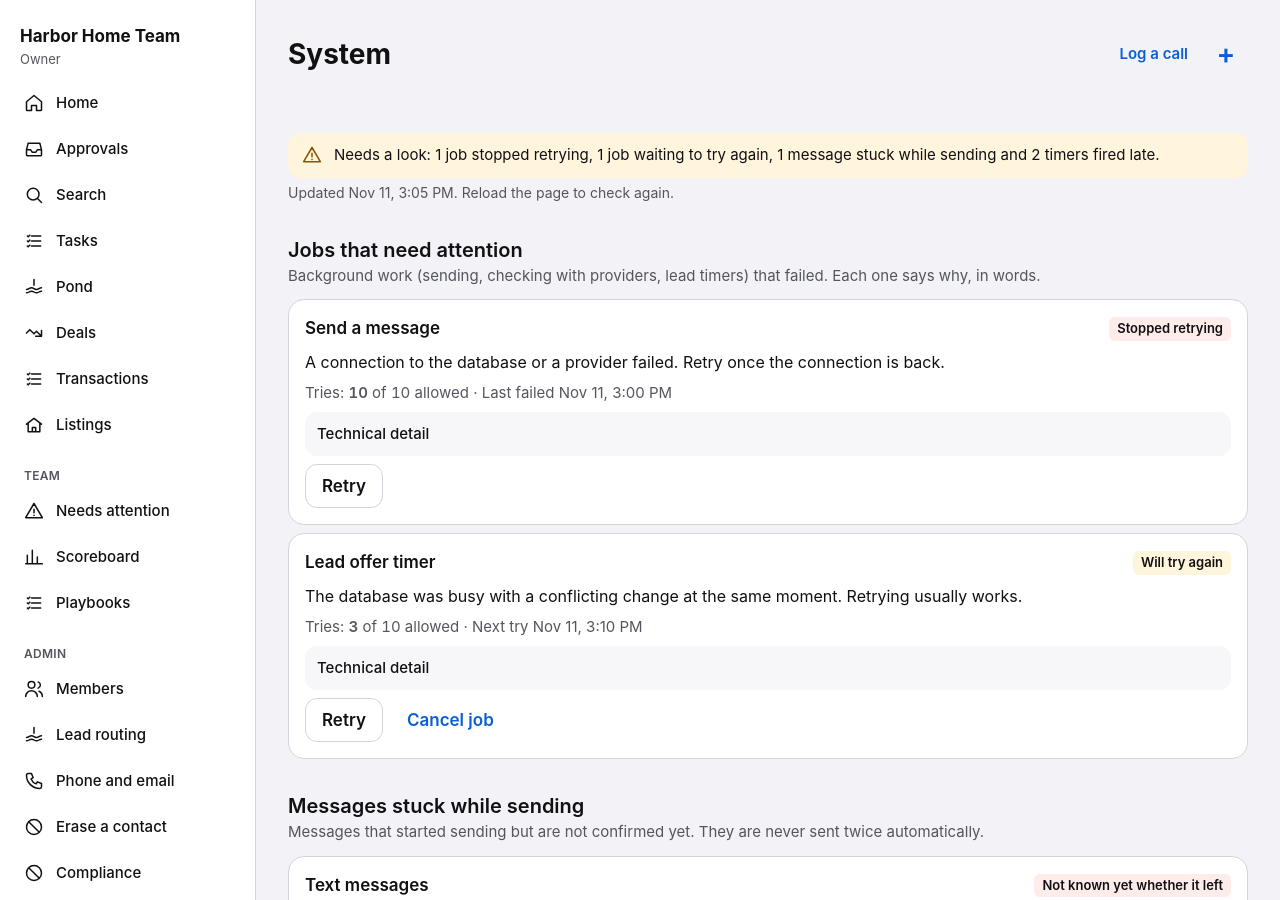
Test: System page › going back from the confirmation sends nothing
Click the button named "Retry: Send a message". click: (344, 486)
box: [305,464,383,508]
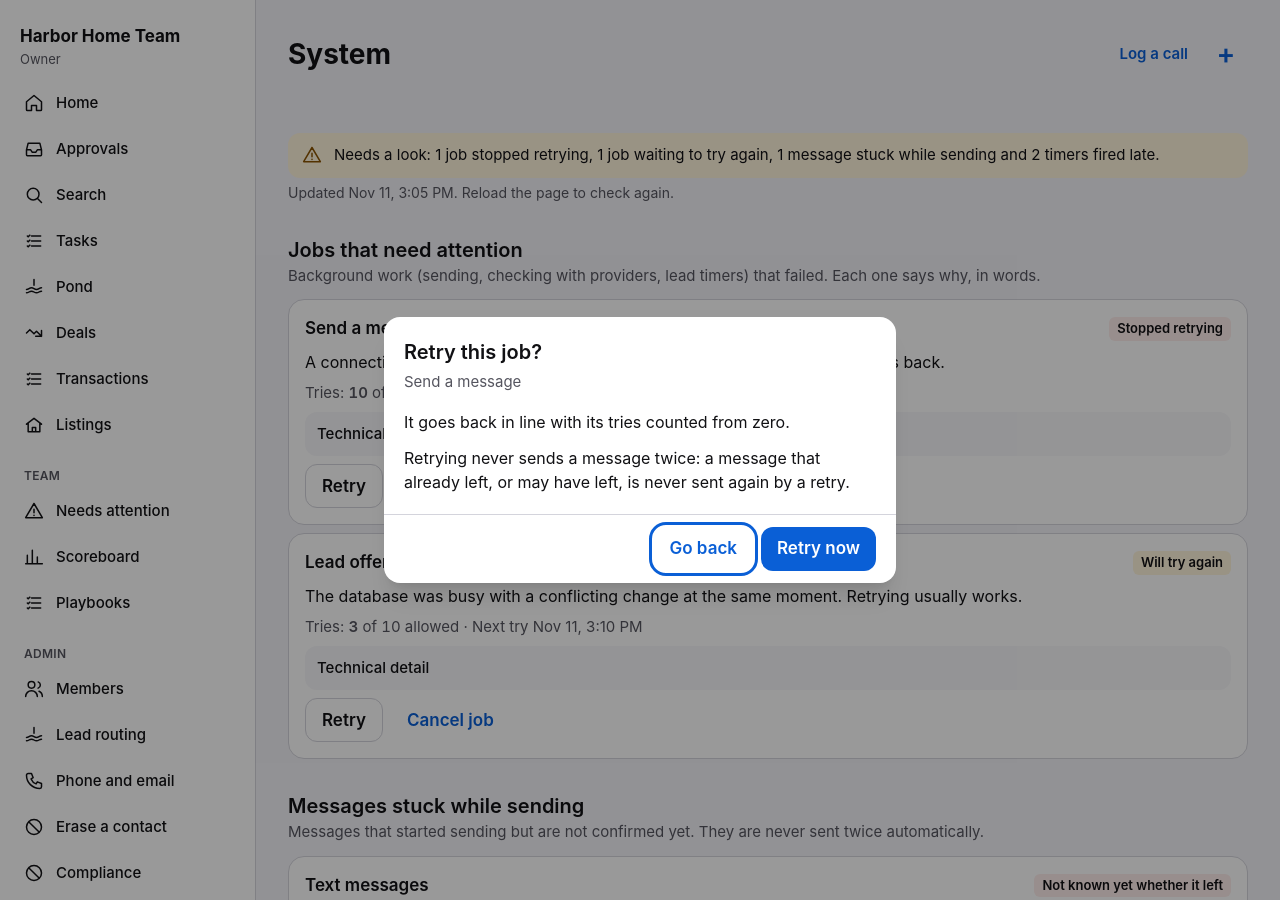
Click the button "Go back". click: (703, 549)
box: [654,527,753,571]
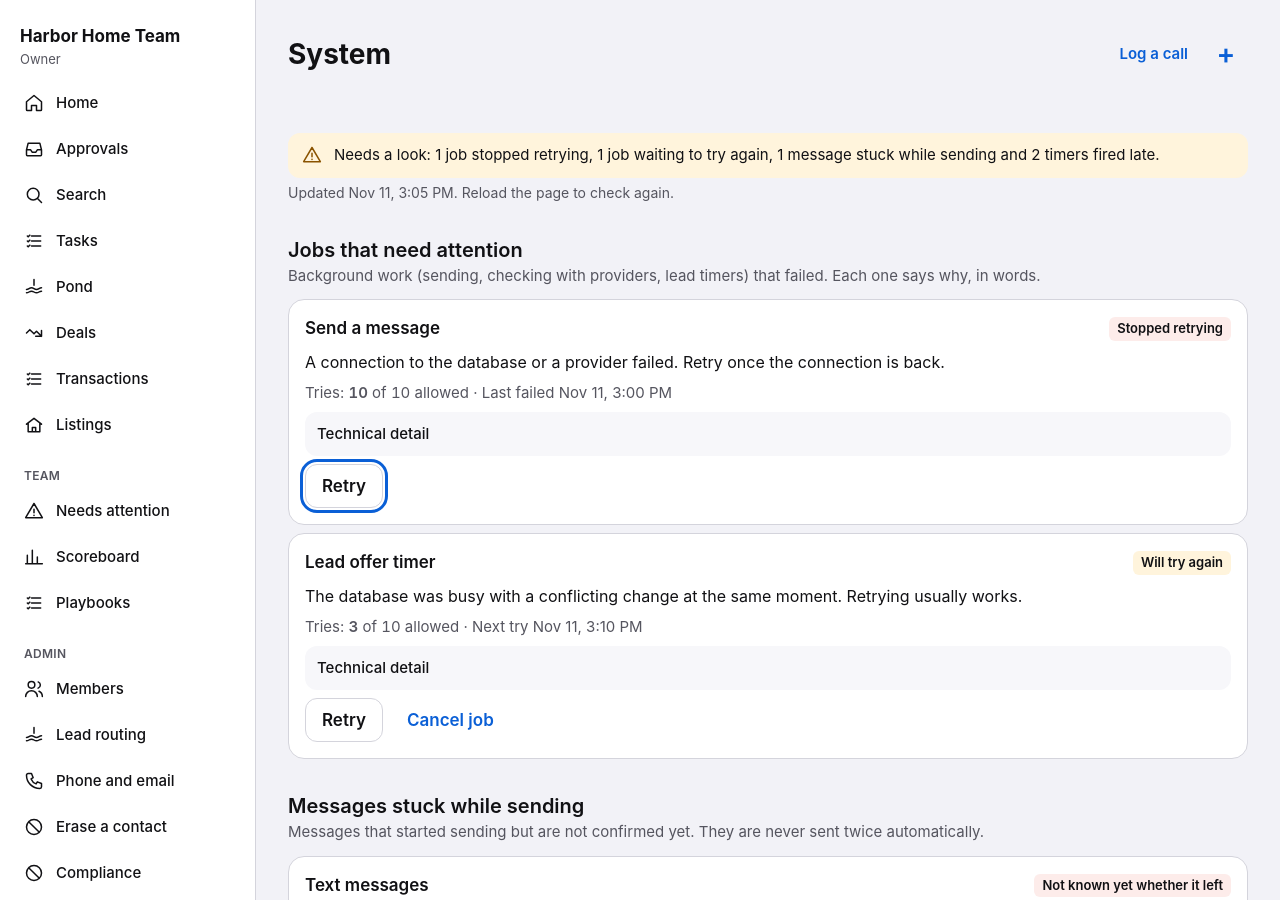
Expected: the dialog is gone
